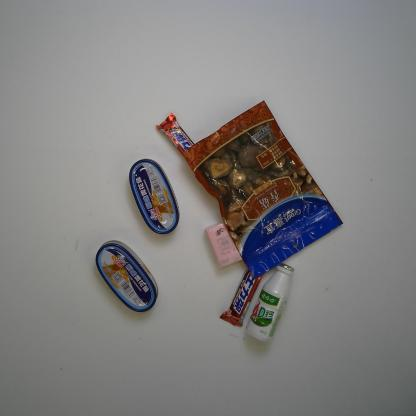Canned Food: (95, 240, 158, 312), (129, 158, 180, 235)
Chocolate: (156, 112, 210, 184), (219, 258, 266, 328)
Dried Food: (182, 100, 344, 280)
Milk: (245, 262, 294, 343)
Tissue: (206, 220, 244, 268)
